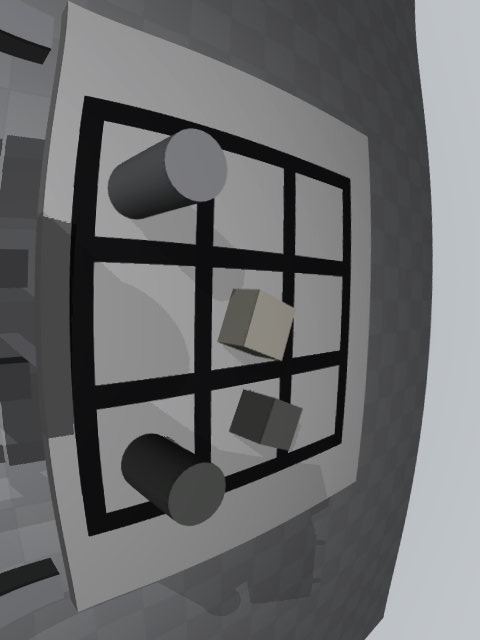can: (108, 128, 228, 220)
cube: (229, 389, 303, 450)
cylinder: (121, 434, 226, 526)
foam: (217, 289, 296, 361)
